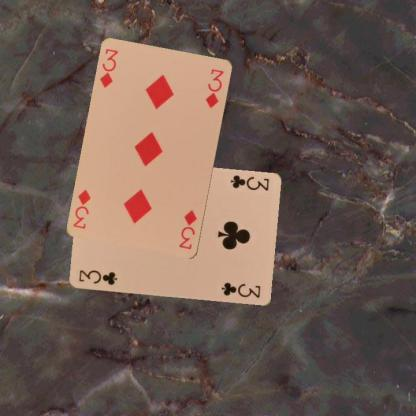3c: (228, 172, 270, 192), (76, 268, 118, 286)
3d: (97, 46, 120, 90), (176, 207, 198, 251)
